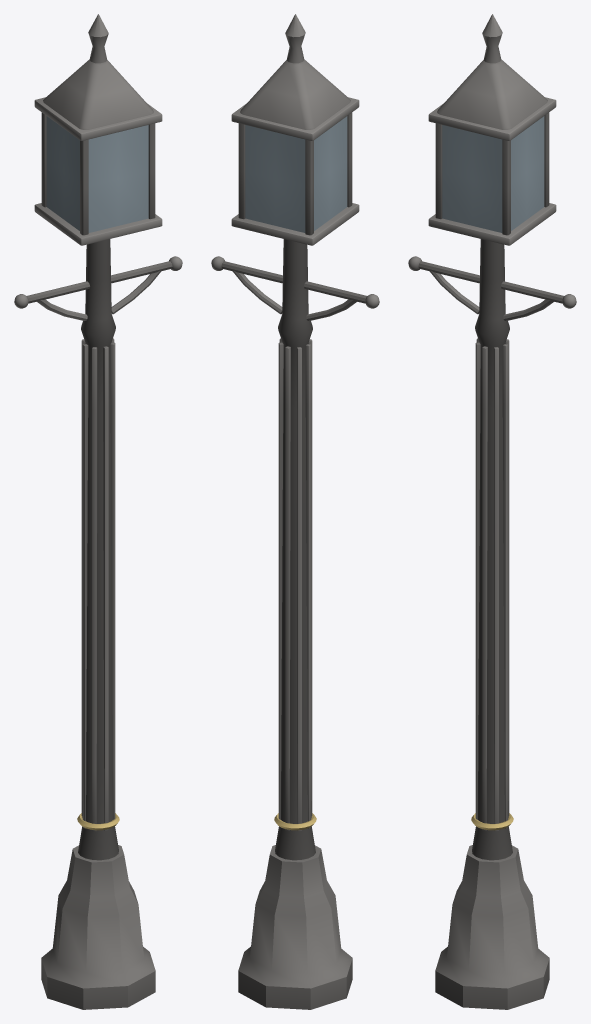
The model's file is obj_kit_streetlamp.glb.
The picture shows the model from 3 angles, left to right: view 1: azimuth 30°, elevation 25°; view 2: azimuth 150°, elevation 25°; view 3: azimuth 330°, elevation 25°; orthographic projection.
Parts seen in each view (by area): view 1: base, post, Cube.014, Cone, Cube.016, Cube.006, Cube.004, Cube.005, Cube.007, Cube.012, Cube.013, ladder (+6 smaller); view 2: base, post, Cube.015, Cone, Cube.016, Cube.002, Cube.004, Cube.003, Cube.001, Cube.012, Cube.013, ladder (+6 smaller); view 3: base, post, Cube.014, Cone, Cube.017, Cube.006, Cube, Cube.007, Cube.005, Cube.012, Cube.013, ladder (+6 smaller).
Boxes of the visible parts, box(x1,y1,x2,y2) form: base: box(41, 845, 155, 1009); post: box(78, 239, 118, 860); Cube.014: box(88, 125, 148, 232); Cone: box(43, 59, 153, 129); Cube.016: box(46, 116, 79, 230); Cube.006: box(103, 346, 108, 830); Cube.004: box(82, 344, 88, 828); Cube.005: box(92, 347, 97, 831); Cube.007: box(110, 342, 115, 826); Cube.012: box(34, 203, 162, 245); Cube.013: box(34, 97, 162, 140); ladder: box(27, 261, 172, 303); base: box(238, 845, 352, 1009); post: box(275, 239, 315, 860); Cube.015: box(245, 125, 305, 232); Cone: box(240, 59, 350, 129); Cube.016: box(314, 116, 347, 230); Cube.002: box(285, 346, 290, 830); Cube.004: box(305, 344, 311, 828); Cube.003: box(296, 347, 301, 831); Cube.001: box(278, 342, 283, 826); Cube.012: box(231, 203, 359, 245); Cube.013: box(231, 97, 359, 140); ladder: box(221, 261, 366, 303); base: box(435, 845, 549, 1009); post: box(472, 239, 512, 860); Cube.014: box(442, 125, 502, 232); Cone: box(437, 59, 547, 129); Cube.017: box(511, 116, 544, 230); Cube.006: box(482, 346, 487, 830); Cube: box(502, 344, 508, 828); Cube.007: box(493, 347, 498, 831); Cube.005: box(475, 342, 480, 826); Cube.012: box(428, 203, 556, 245); Cube.013: box(428, 97, 556, 140); ladder: box(418, 261, 563, 303).
Size of the model in its own units: 0.6476 by 3.62 by 0.4.
